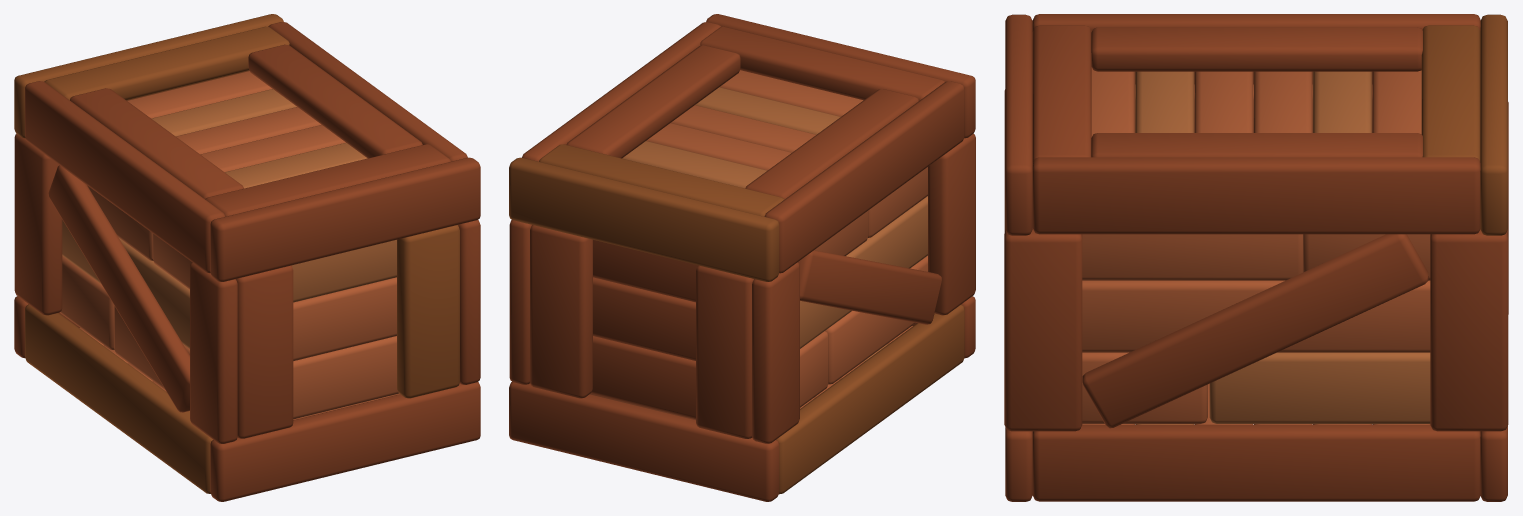
Rendered from Caise 1.fbx.
The picture shows the model from 3 angles, left to right: view 1: azimuth 30°, elevation 25°; view 2: azimuth 150°, elevation 25°; view 3: azimuth 270°, elevation 25°; orthographic projection. The views are drawn at different scales.
Parts seen in each view (by area): view 1: caisse 1; view 2: caisse 1; view 3: caisse 1.
Part boxes in pixels (x1,y1,x2,y2): caisse 1: [14, 14, 480, 501]; caisse 1: [509, 14, 975, 501]; caisse 1: [1004, 14, 1508, 501].
Bounding box in the file's own units: 100 × 101 × 137.
